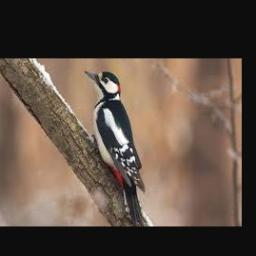Woodpecker: (84, 70, 145, 226)
